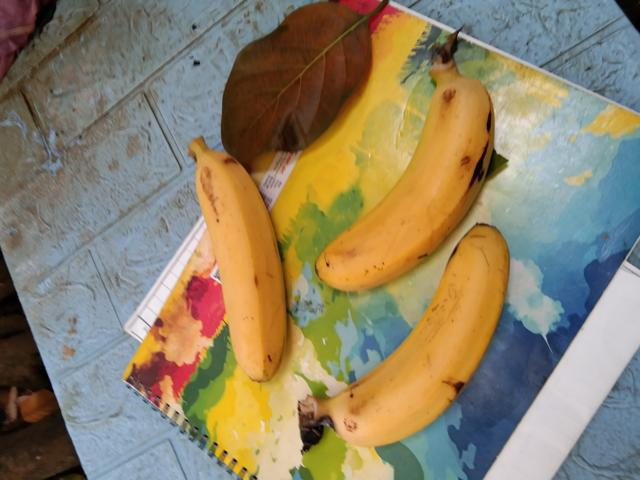freshripe: (185, 152, 286, 387)
ripe: (327, 219, 524, 447), (308, 70, 502, 290)
